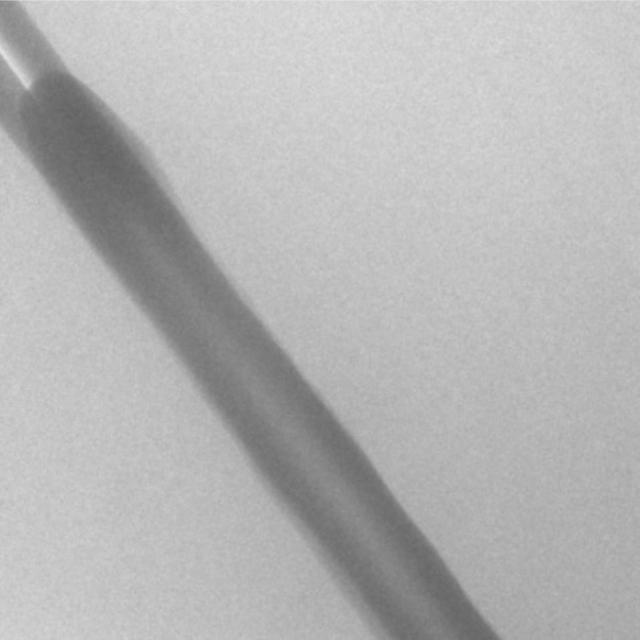broken arc: (0, 44, 28, 90)
